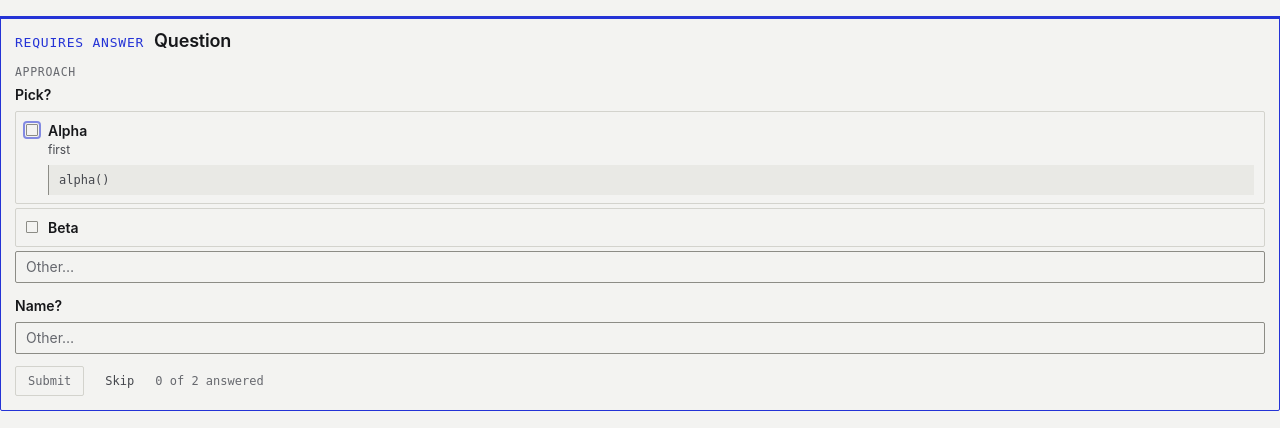
RequestCard question form › waits for every answer before Submit and counts them
Check: the button "Submit" is disabled, box [15,366,84,396]
Check: the text "0 of 2 answered" is shown, box [155,372,264,390]
Click the radio button labelled "Alpha first alpha()". click: (32, 130)
box: [26,124,38,136]
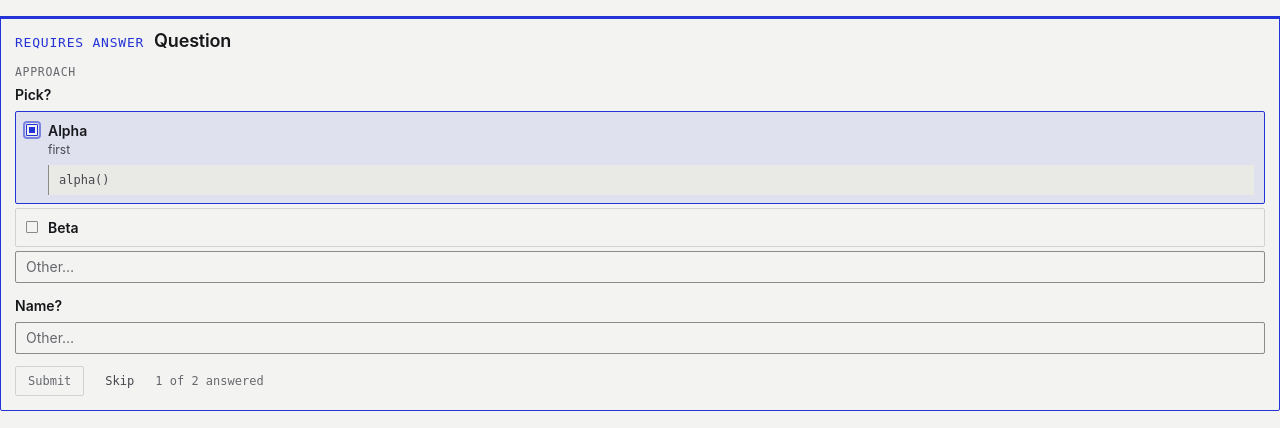
Check: the button "Submit" is disabled, box [15,366,84,396]
Check: the text "1 of 2 answered" is shown, box [155,372,264,390]
Type "Ann" into the field named "Other Name?". click: (640, 338)
box: [15,322,1265,354]
Then press Enter
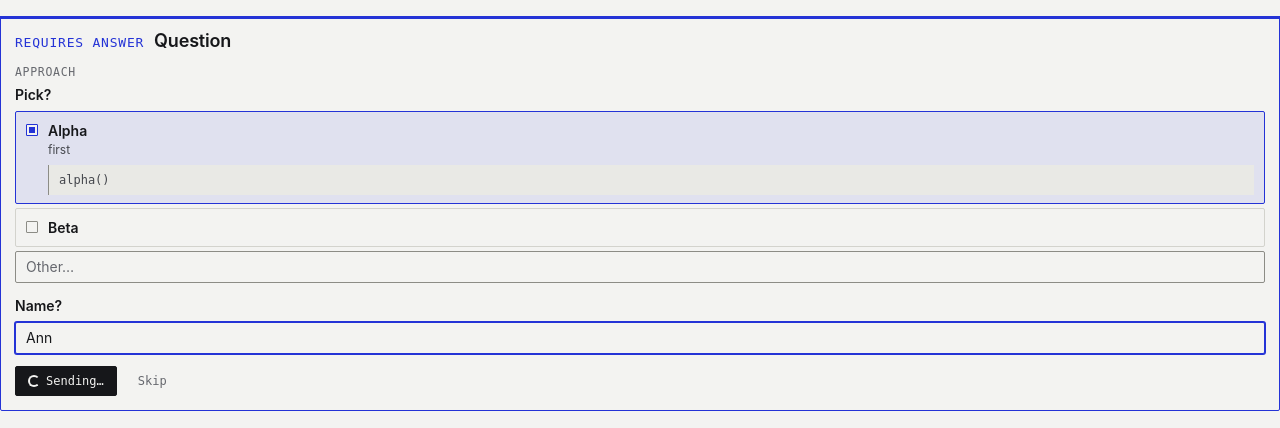
Check: the text "answered" is gone
